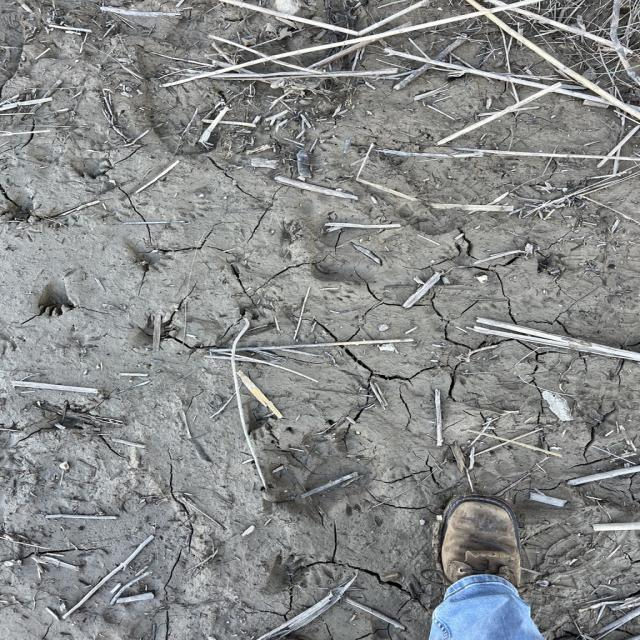bear: (277, 424, 385, 506)
